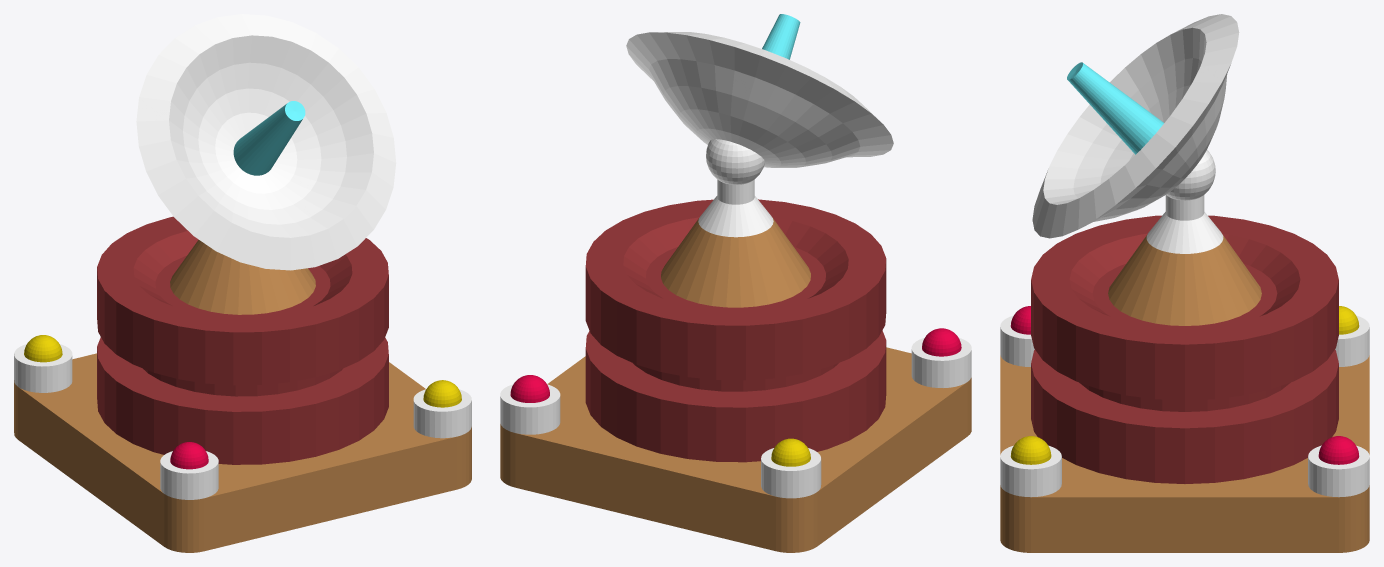
Rendered from LandRadar.dae.
The picture shows the model from 3 angles, left to right: view 1: azimuth 30°, elevation 25°; view 2: azimuth 150°, elevation 25°; view 3: azimuth 270°, elevation 25°; orthographic projection. The views are drawn at different scales.
Visible parts, largest first — view 1: Cube, Cylinder.021; view 2: Cube, Cylinder.021; view 3: Cube, Cylinder.021.
Part boxes in pixels (x1,y1,x2,y2): Cube: (14,216,471,552); Cylinder.021: (136,14,396,270); Cube: (500,199,971,552); Cylinder.021: (626,14,893,237); Cube: (1000,215,1369,552); Cylinder.021: (1032,14,1239,253).
Bounding box in the file's own units: 6 × 6 × 7.93.
